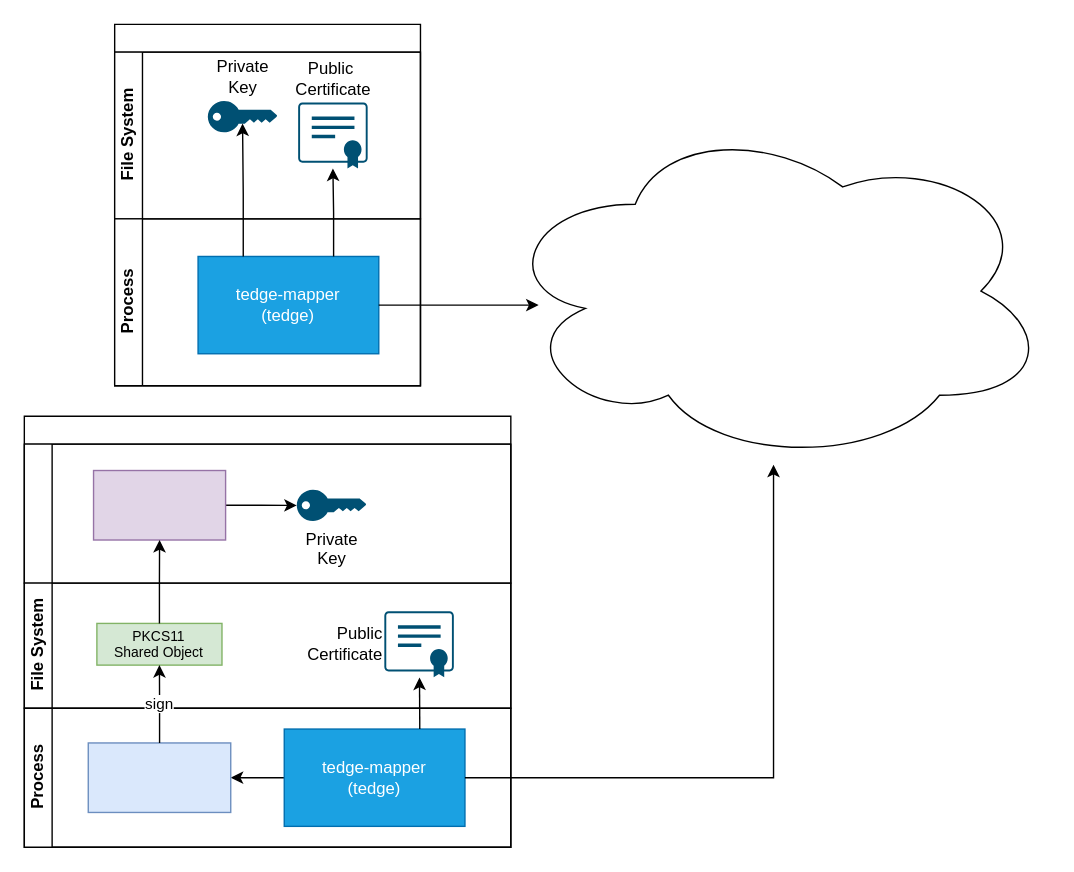
The diagram is 1074 pixels wide and 872 high, and some of its shapes have lost their labels. The box of each missing label's shape, as (x1, y1, x2, y2) in pixels:
Cloud: (496, 116, 1050, 465)
Hardware Security Modules: (92, 469, 226, 540)
HSM: (23, 443, 511, 583)
tedge-p11-server: (87, 742, 231, 812)
thin-edge.io with a HSM: (23, 415, 511, 847)
thin-edge.io without a HSM: (113, 23, 420, 386)
